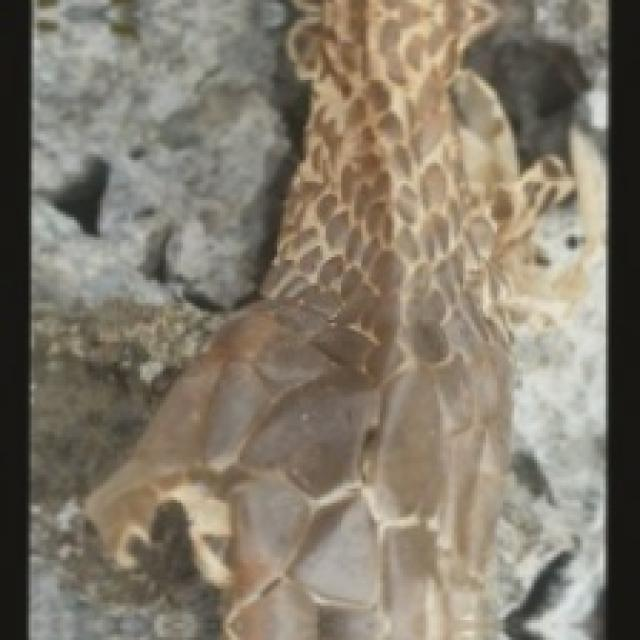philippine cobra: (86, 0, 603, 637)
